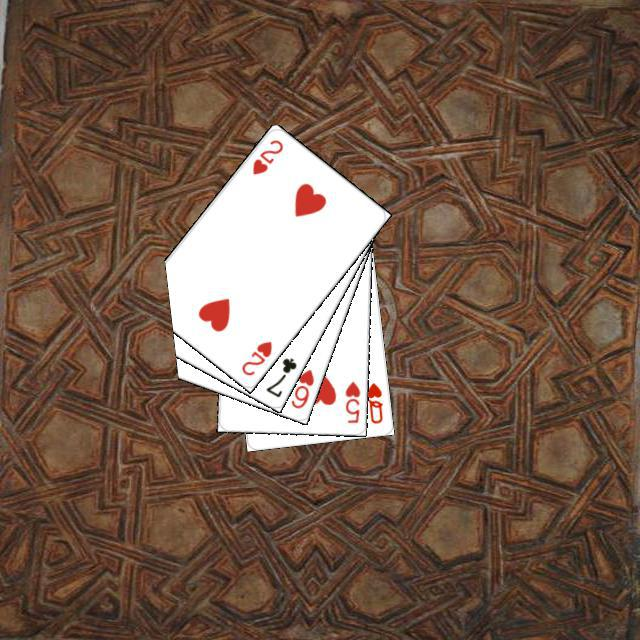2h: (247, 134, 285, 176), (236, 336, 274, 377)
5h: (340, 376, 362, 425)
6h: (286, 364, 316, 410)
7c: (261, 353, 298, 399)
Qh: (362, 378, 385, 425)
